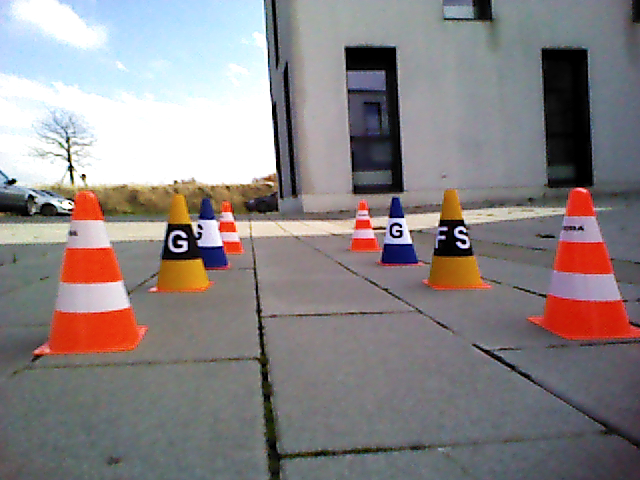bluecone: (381, 196, 419, 263), (200, 196, 227, 268)
orangeconesmall: (49, 190, 141, 350), (544, 187, 630, 333), (222, 200, 247, 252), (350, 201, 377, 248)
yellowcone: (427, 188, 482, 285), (157, 195, 208, 290)
